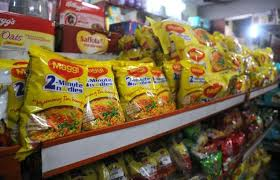maggi: (33, 49, 220, 113)
